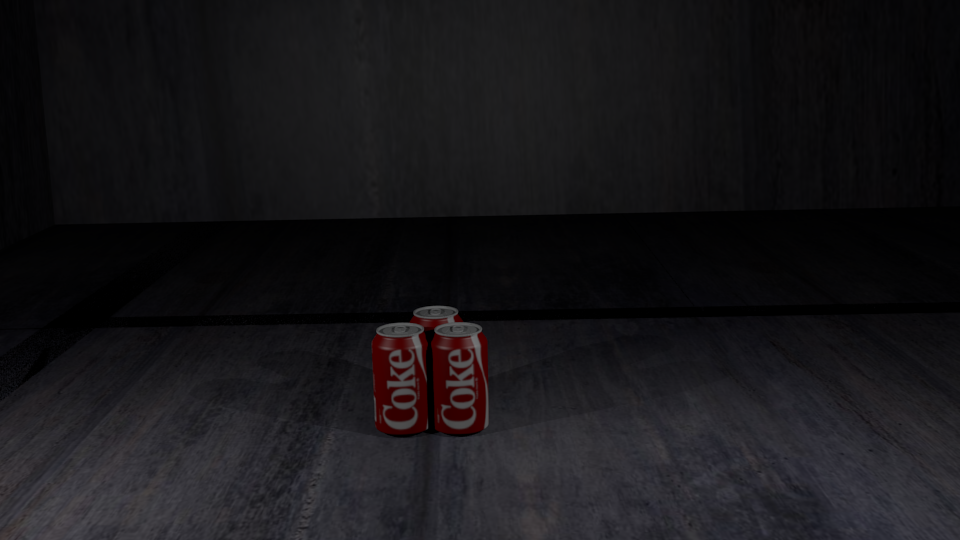cola_can: (372, 323, 430, 431), (430, 323, 487, 430), (409, 306, 462, 409)
